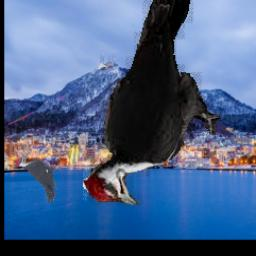Woodpecker: (83, 0, 223, 207), (14, 153, 63, 203)
